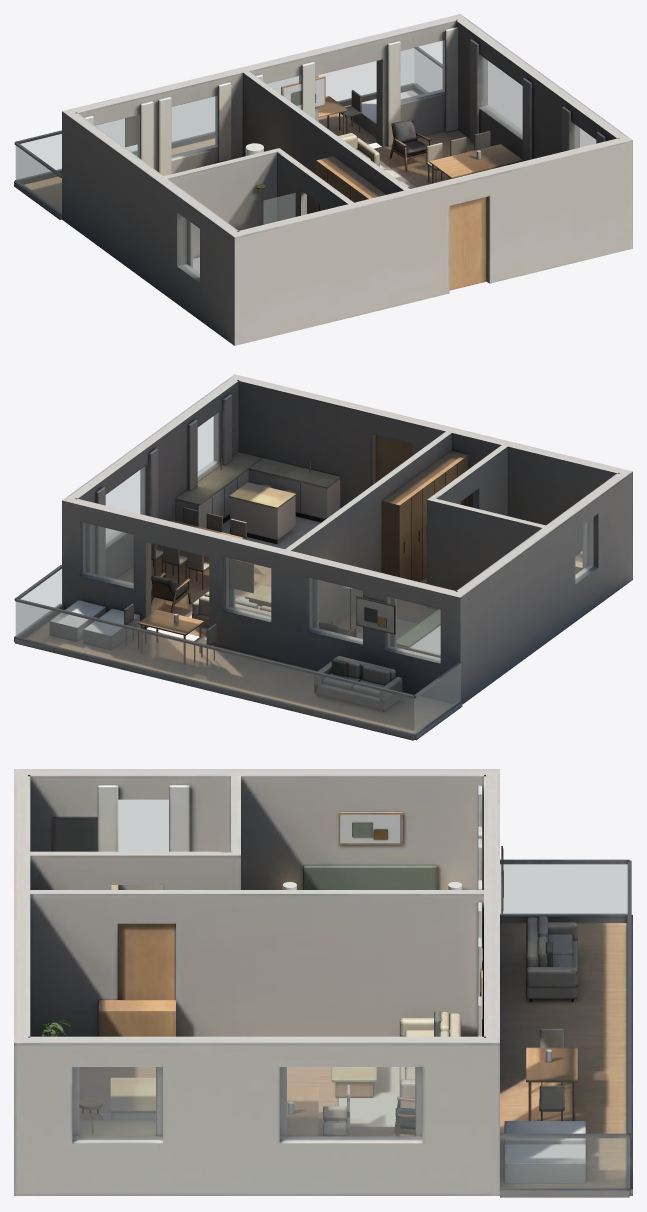
File: penthouse-601.glb
The picture shows the model from 3 angles, top to bottom: view 1: azimuth 30°, elevation 25°; view 2: azimuth 150°, elevation 25°; view 3: azimuth 270°, elevation 25°; orthographic projection. The views are drawn at different scales.
Visible parts, largest first — view 1: horneado, Cube.029; view 2: horneado, Cube.029; view 3: horneado, Cube.029.
Boxes of the visible parts, x1,y1,x2,y2 form: horneado: [14, 14, 632, 345]; Cube.029: [15, 40, 595, 277]; horneado: [14, 374, 632, 740]; Cube.029: [15, 412, 593, 734]; horneado: [14, 769, 632, 1197]; Cube.029: [72, 800, 629, 1188].
Bounding box in the file's own units: 10.1 × 2.6 × 9.55.
4 materials, 3 textured.
